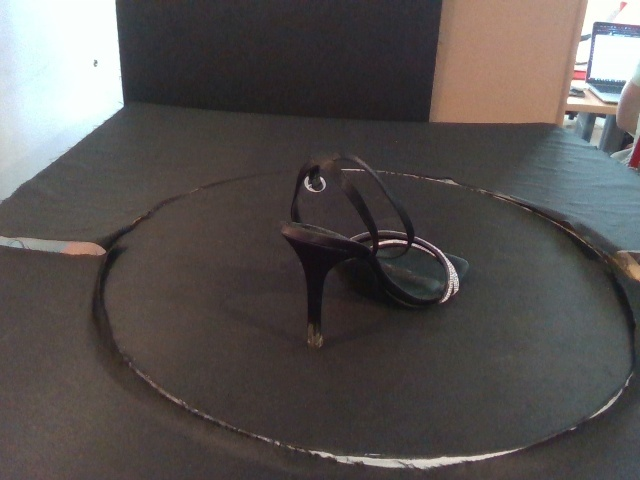shoe: (280, 151, 471, 351)
